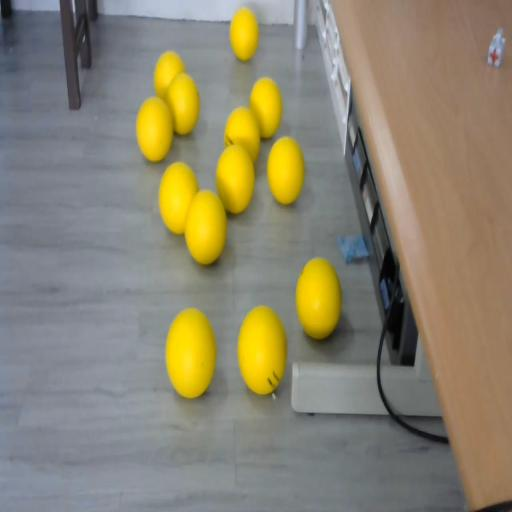FUEL: (164, 306, 216, 397), (236, 304, 288, 394), (294, 257, 342, 340), (184, 189, 227, 265), (215, 144, 256, 213), (266, 136, 305, 205), (136, 97, 173, 161), (166, 73, 200, 135), (249, 78, 283, 138), (229, 6, 259, 60)
